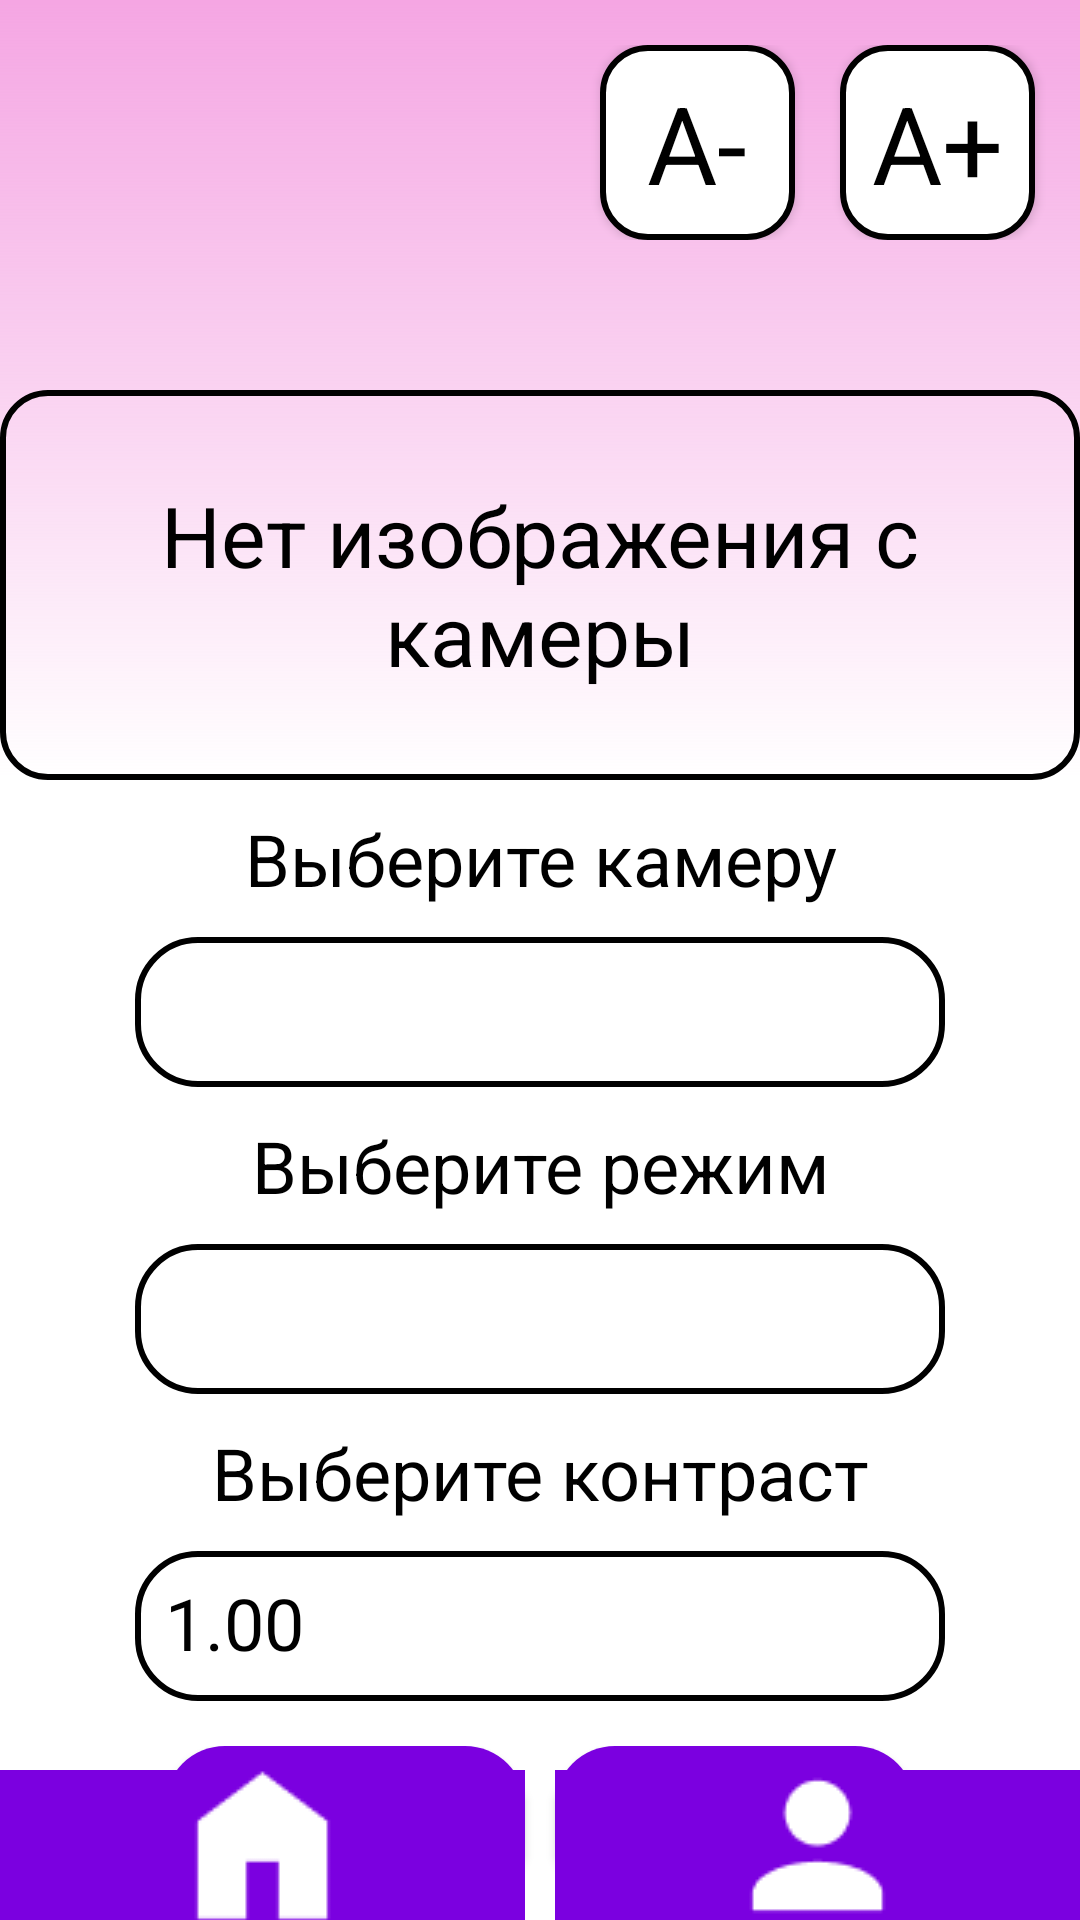

Locate icon controls on the screen. Image size 1080 x 1920, boxes as (x1, y1, x2, y2).
Главная страница: (196, 1771, 329, 1920)
Страница профиля: (751, 1779, 884, 1912)
